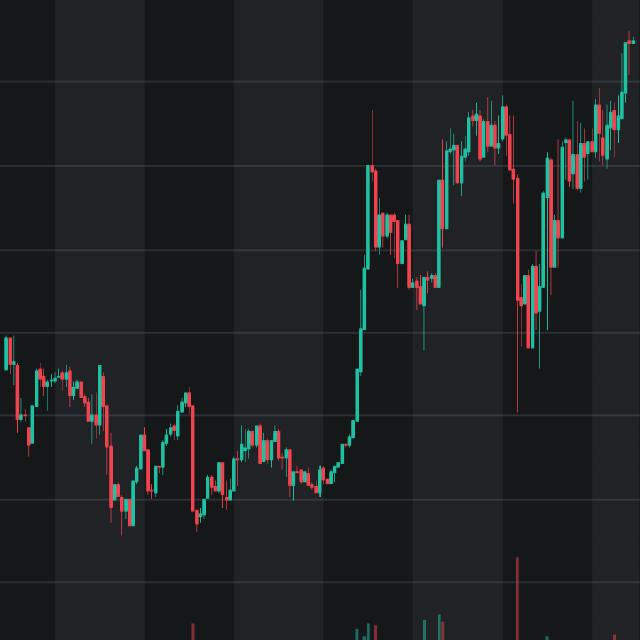Resistance-breakout: (215, 163, 371, 503)
